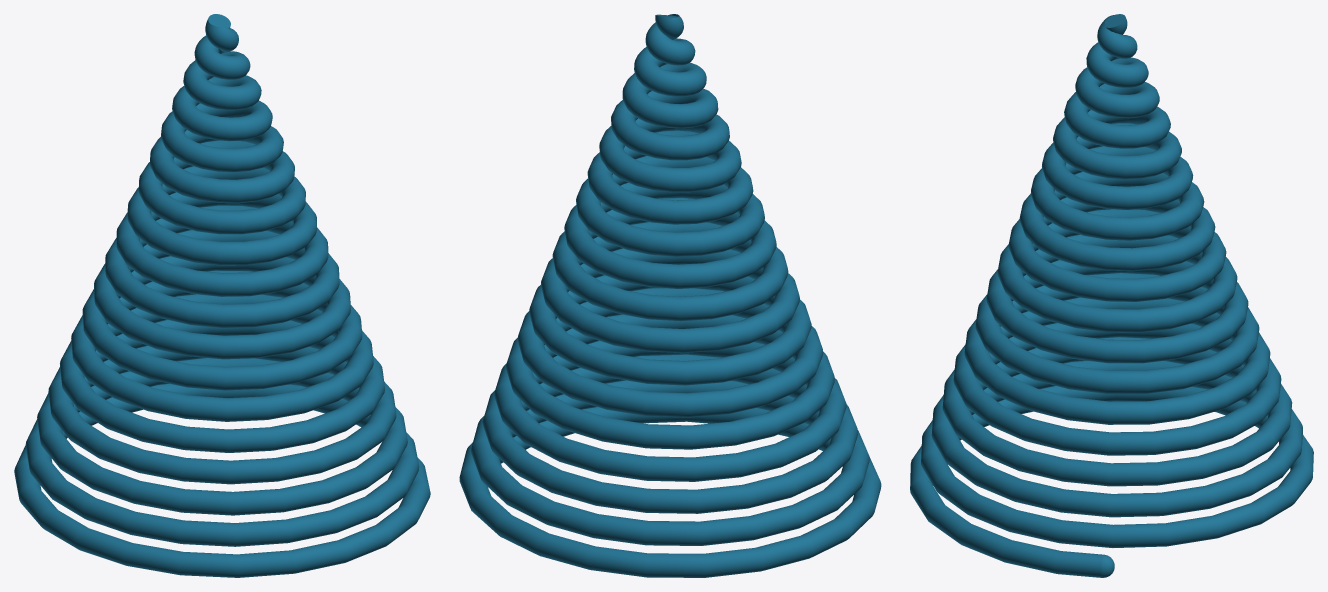
File: FalloffSpiral.glb
The picture shows the model from 3 angles, left to right: view 1: azimuth 30°, elevation 25°; view 2: azimuth 150°, elevation 25°; view 3: azimuth 270°, elevation 25°; orthographic projection. The views are drawn at different scales.
Parts seen in each view (by area): view 1: Spring; view 2: Spring; view 3: Spring.
Part boxes in pixels (x1,y1,x2,y2): Spring: [14, 14, 430, 577]; Spring: [459, 14, 881, 577]; Spring: [910, 14, 1313, 577].
Size of the model in its own units: 5.25 by 6.72 by 5.16.
